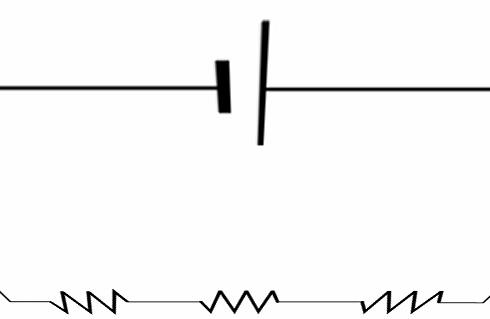resistor: (341, 276, 453, 317), (38, 278, 143, 317), (198, 274, 291, 317)
